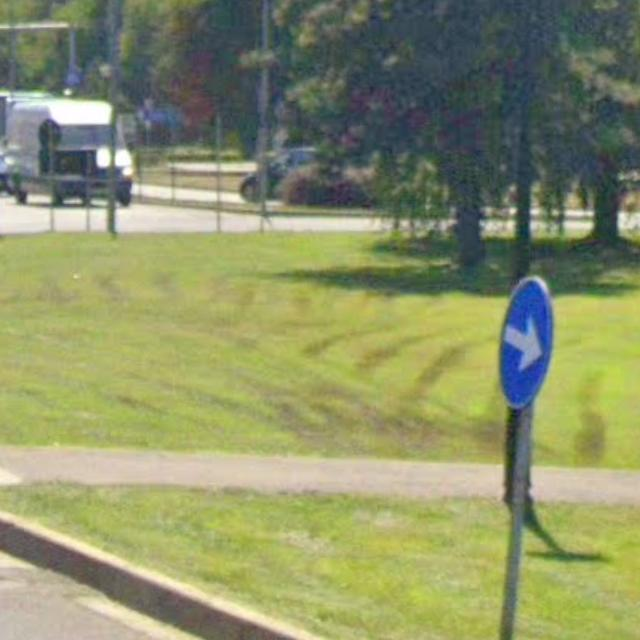mand_pass_right: (496, 276, 556, 411)
